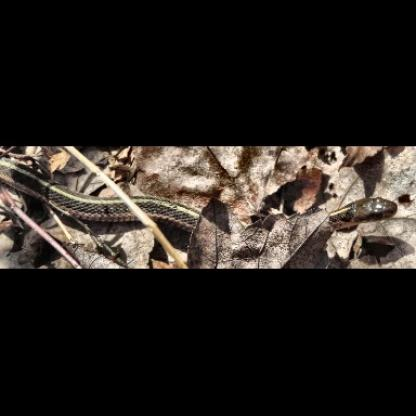Snake: (11, 163, 404, 248)
